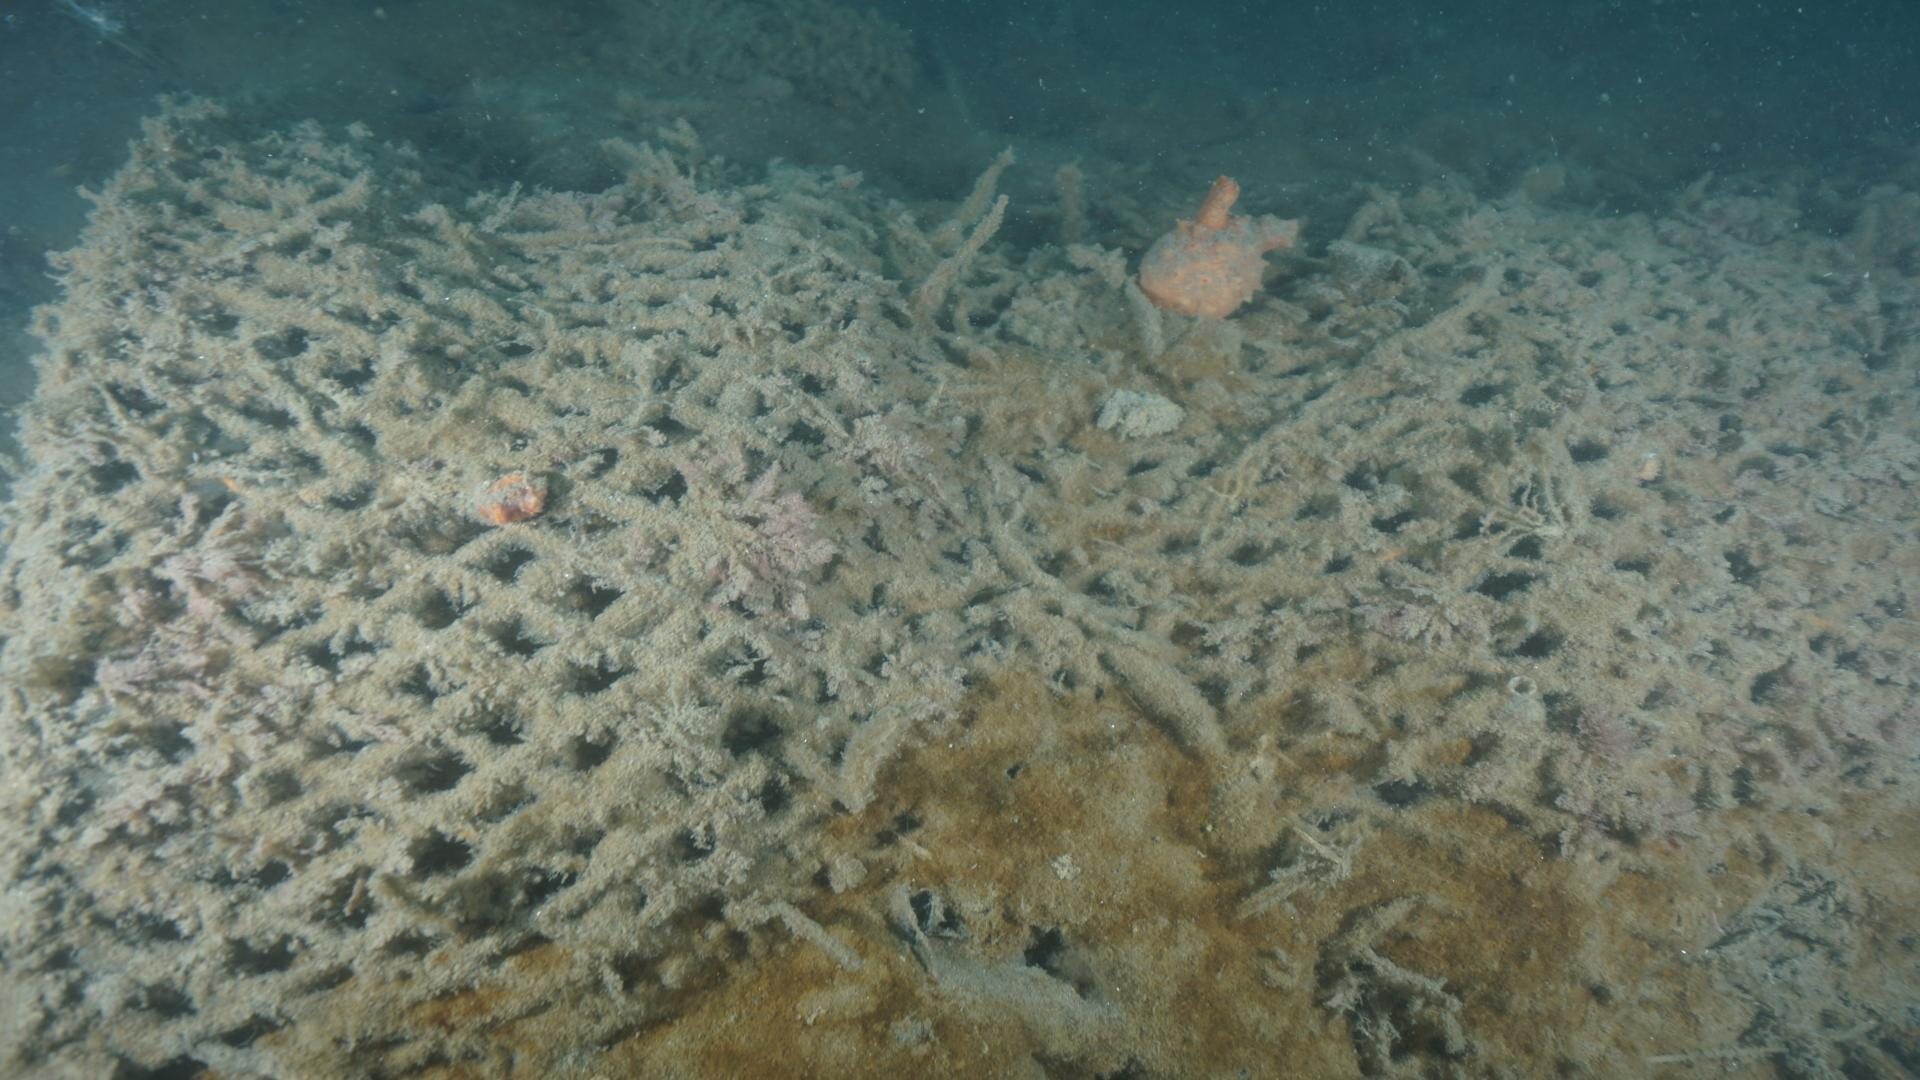spring fish trap: (0, 84, 1920, 1080)
